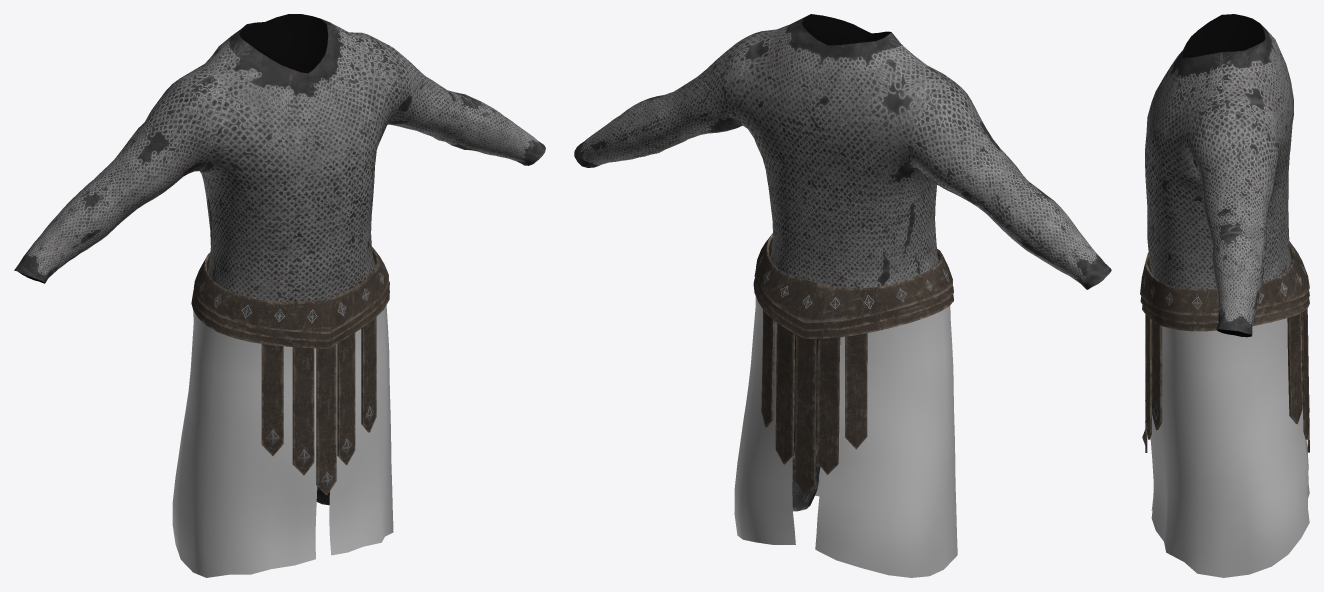
The model's file is sk_uruk_mordor_chainmail_light_b.fbx.
The picture shows the model from 3 angles, left to right: view 1: azimuth 30°, elevation 25°; view 2: azimuth 150°, elevation 25°; view 3: azimuth 270°, elevation 25°; orthographic projection. The views are drawn at different scales.
Visible parts, largest first — view 1: sk_uruk_mordor_chainmail_light_b.0, sk_uruk_mordor_chainmail_light_b.2, sk_uruk_mordor_chainmail_light_b.1; view 2: sk_uruk_mordor_chainmail_light_b.0, sk_uruk_mordor_chainmail_light_b.2, sk_uruk_mordor_chainmail_light_b.1; view 3: sk_uruk_mordor_chainmail_light_b.0, sk_uruk_mordor_chainmail_light_b.2, sk_uruk_mordor_chainmail_light_b.1.
Boxes of the visible parts, x1,y1,x2,y2 form: sk_uruk_mordor_chainmail_light_b.0: (14,14,545,505); sk_uruk_mordor_chainmail_light_b.2: (172,305,393,577); sk_uruk_mordor_chainmail_light_b.1: (191,247,389,495); sk_uruk_mordor_chainmail_light_b.0: (574,14,1111,511); sk_uruk_mordor_chainmail_light_b.2: (734,296,957,577); sk_uruk_mordor_chainmail_light_b.1: (753,233,953,494); sk_uruk_mordor_chainmail_light_b.0: (1145,14,1293,337); sk_uruk_mordor_chainmail_light_b.2: (1150,318,1309,577); sk_uruk_mordor_chainmail_light_b.1: (1140,241,1309,452).
Bounding box in the file's own units: 1.37 × 0.3975 × 1.29.
